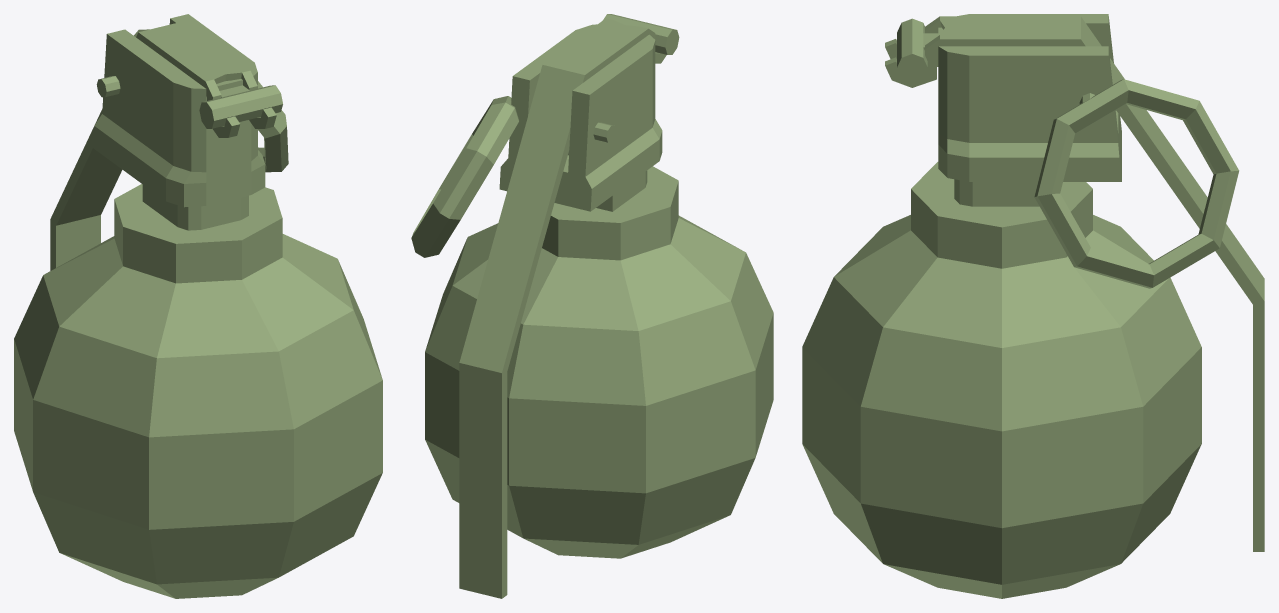
Rendered from grenade.glb.
3 renders of one model, left to right at view 1: azimuth 30°, elevation 25°; view 2: azimuth 150°, elevation 25°; view 3: azimuth 270°, elevation 25°, orthographic. The views are drawn at different scales.
Visible parts, largest first — view 1: Frag_West; view 2: Frag_West; view 3: Frag_West.
Boxes of the visible parts, <box> form: Frag_West: <box>14,14,382,598</box>; Frag_West: <box>411,14,773,598</box>; Frag_West: <box>802,14,1264,598</box>.
Size of the model in its own units: 0.0672 by 0.0988 by 0.0778.
